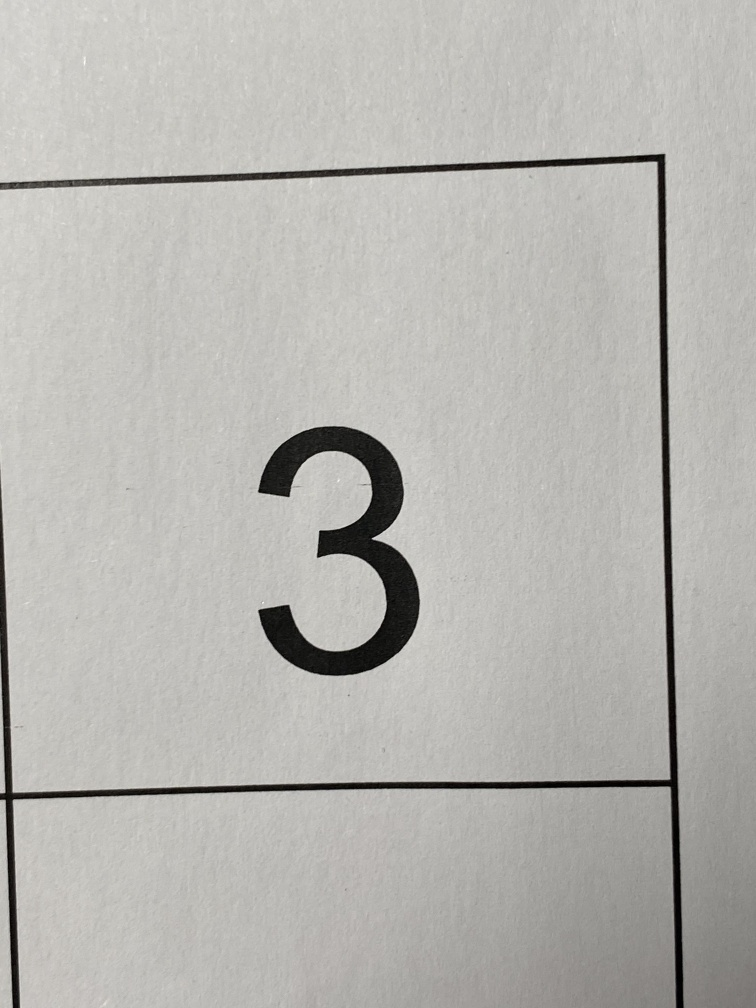three: (212, 382, 472, 739)
